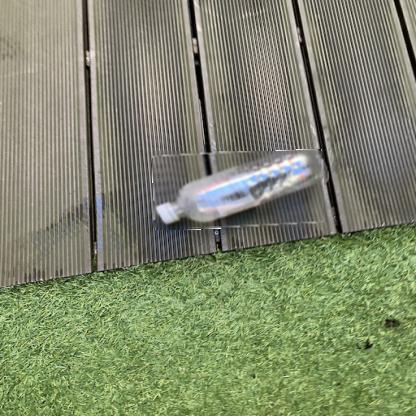plastic-bottles: (154, 153, 326, 231)
